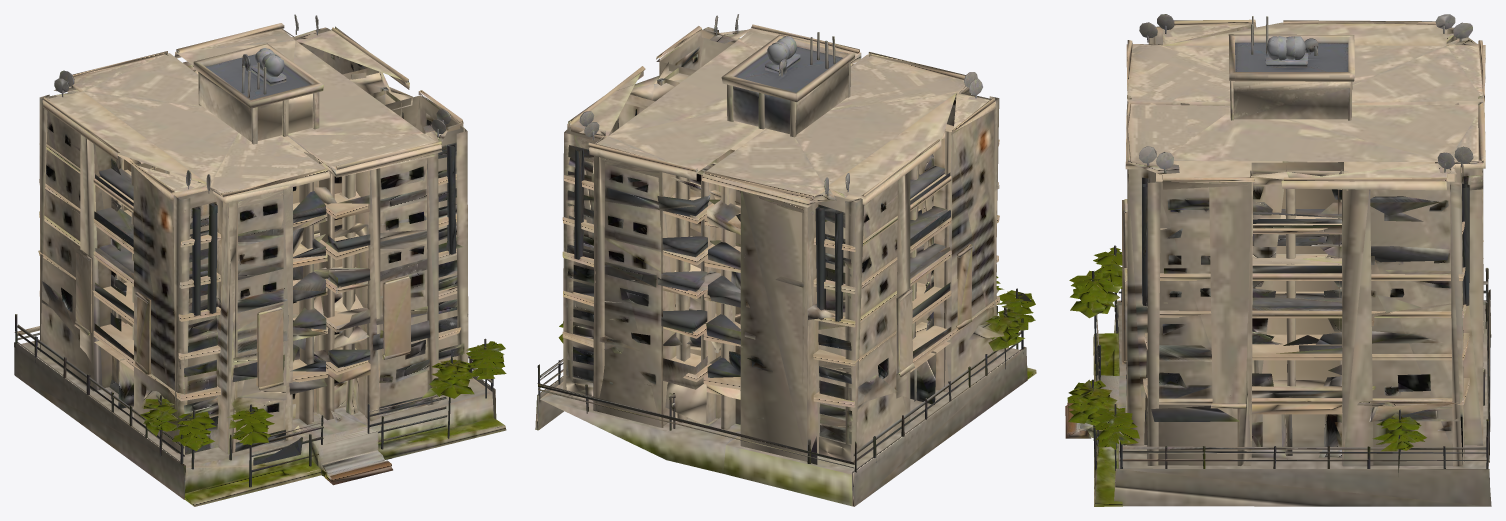
The picture shows the model from 3 angles, left to right: view 1: azimuth 30°, elevation 25°; view 2: azimuth 150°, elevation 25°; view 3: azimuth 270°, elevation 25°; orthographic projection. The views are drawn at different scales.
Visible parts, largest first — view 1: geometry_0; view 2: geometry_0; view 3: geometry_0.
Boxes of the visible parts, x1,y1,x2,y2 form: geometry_0: (14,14,506,506); geometry_0: (535,14,1036,506); geometry_0: (1065,14,1491,506).
Bounding box in the file's own units: 1 × 1 × 0.9895.
1 material, 1 textured.
